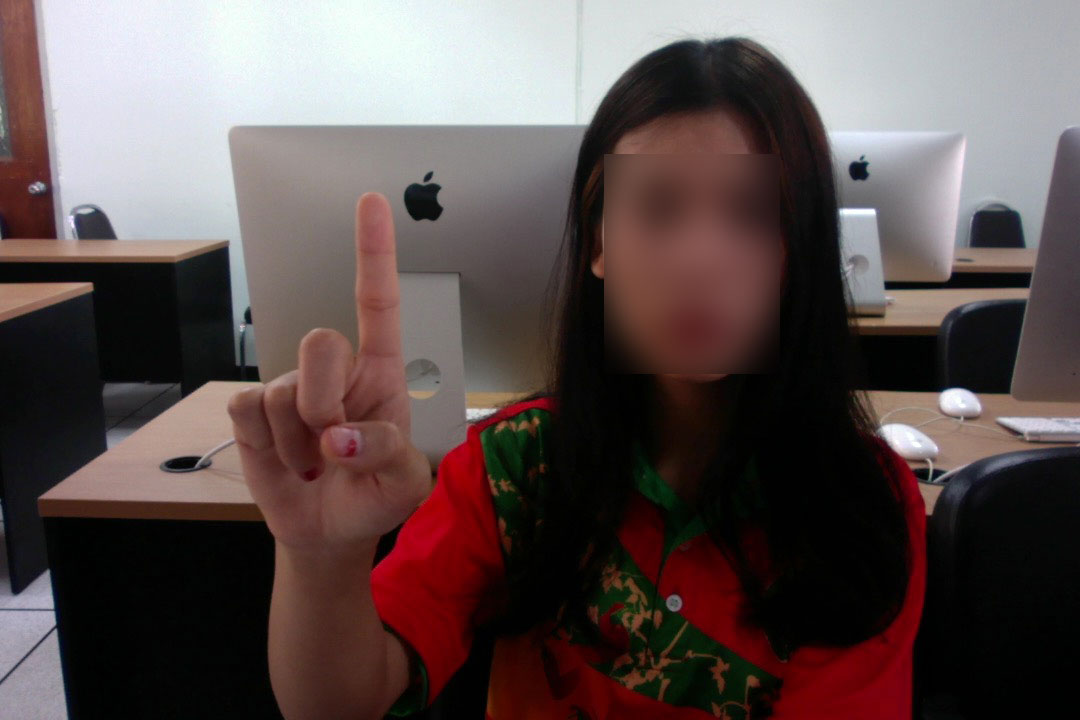dor: (200, 172, 438, 559)
